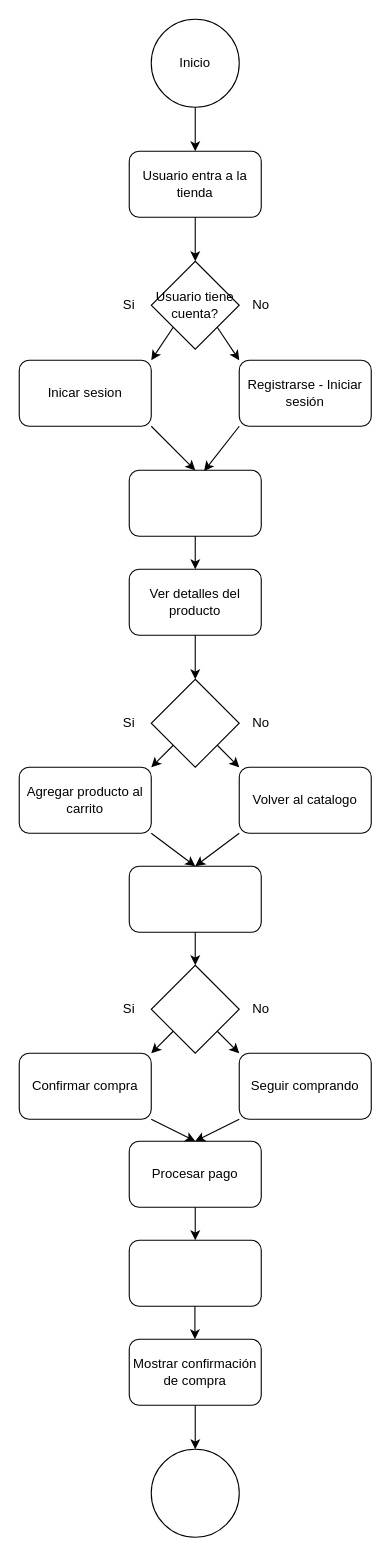
Image size: 391x1557. Some labels were removed from this diagram. Each missing label, with the box of its shape:
Buscar / Seleccionar producto: (128, 469, 261, 536)
Desea agregar al carrito?: (150, 678, 239, 767)
Desea comprar?: (150, 964, 239, 1053)
Fin: (150, 1448, 239, 1537)
Guardar pedido en base de datos: (128, 1239, 261, 1306)
Ver carrito de ompras: (128, 865, 261, 932)
